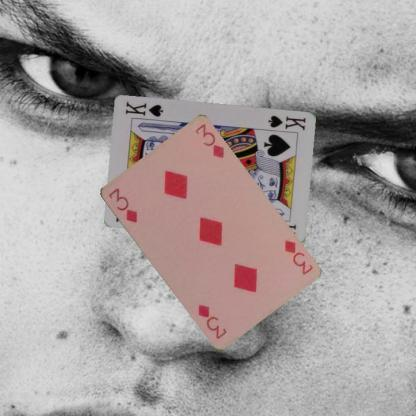3d: (105, 186, 139, 224), (281, 237, 314, 276)
Ks: (266, 113, 307, 131)
